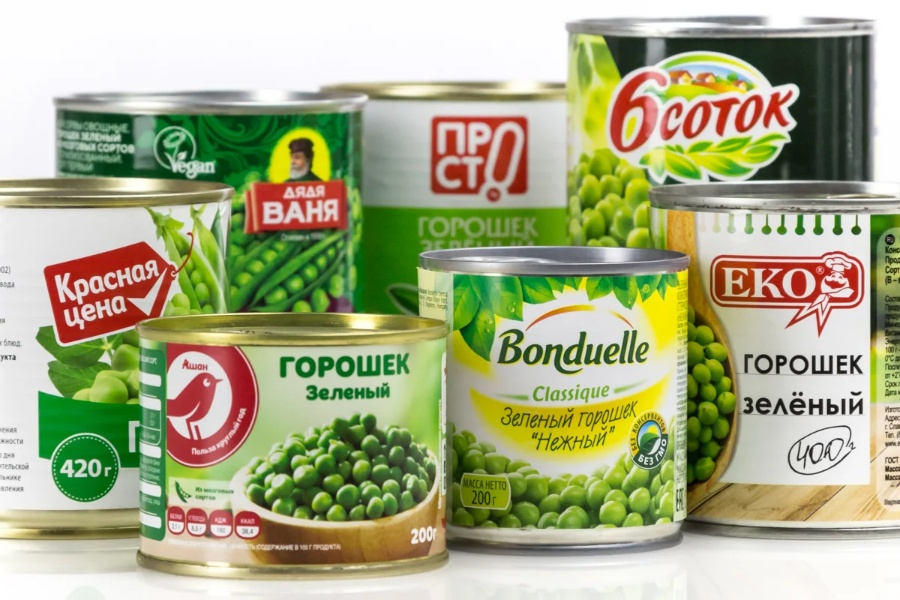peas: (117, 303, 463, 592), (418, 243, 704, 556), (668, 178, 900, 545)
